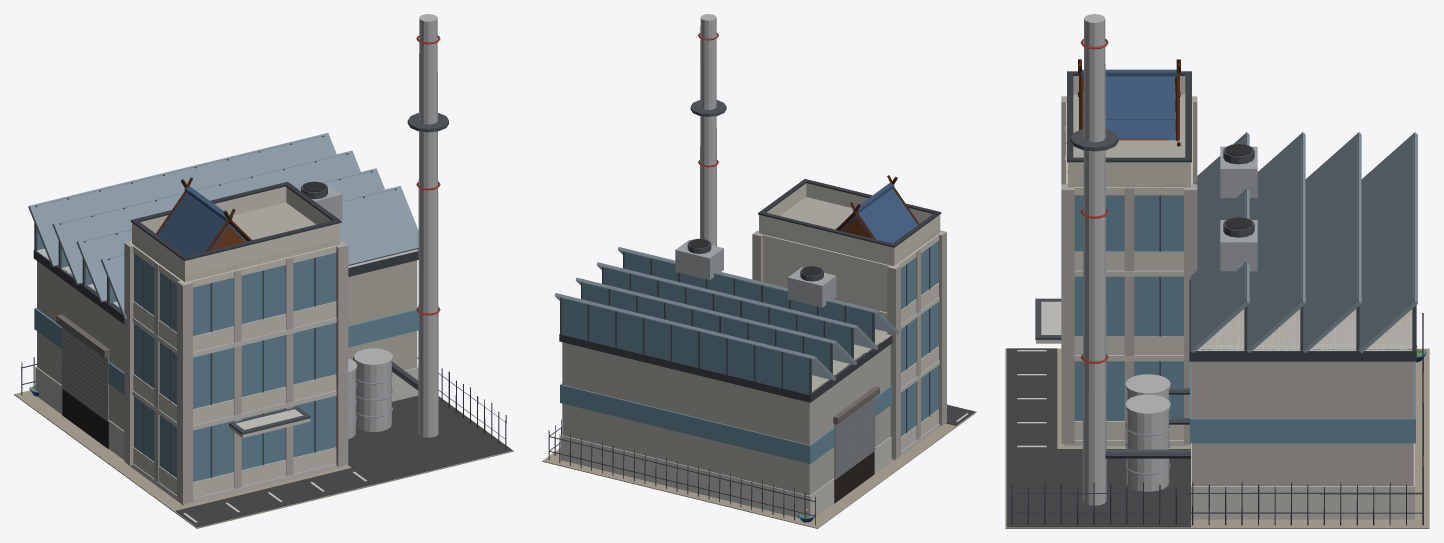
Rendered from factory_3.glb.
3 renders of one model, left to right at view 1: azimuth 30°, elevation 25°; view 2: azimuth 150°, elevation 25°; view 3: azimuth 270°, elevation 25°, orthographic. The views are drawn at different scales.
Parts seen in each view (by area): view 1: body, windows; view 2: body, windows; view 3: body.
Boxes of the visible parts, x1=… form: body: x1=14, y1=14, x2=513, y2=528; windows: x1=62, y1=389, x2=108, y2=449; body: x1=542, y1=14, x2=976, y2=528; windows: x1=834, y1=451, x2=874, y2=503; body: x1=1005, y1=14, x2=1429, y2=528.
Bounding box in the file's own units: 15.9 × 20 × 15.9.
